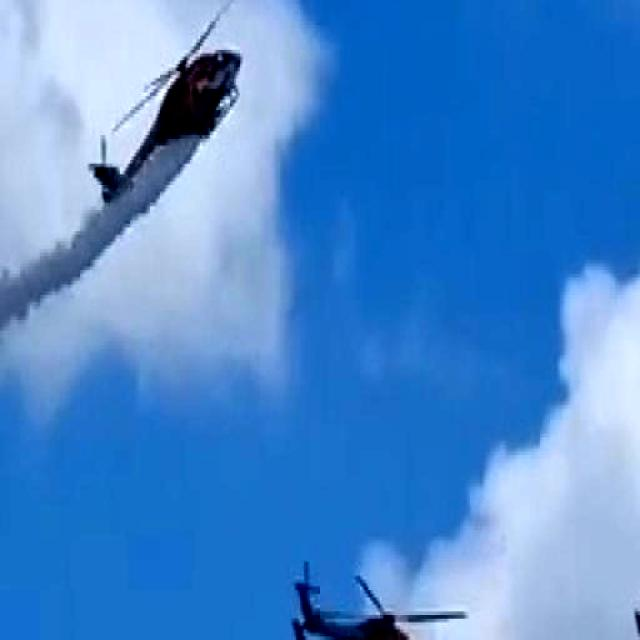drone: (90, 0, 242, 200), (292, 561, 469, 640)
